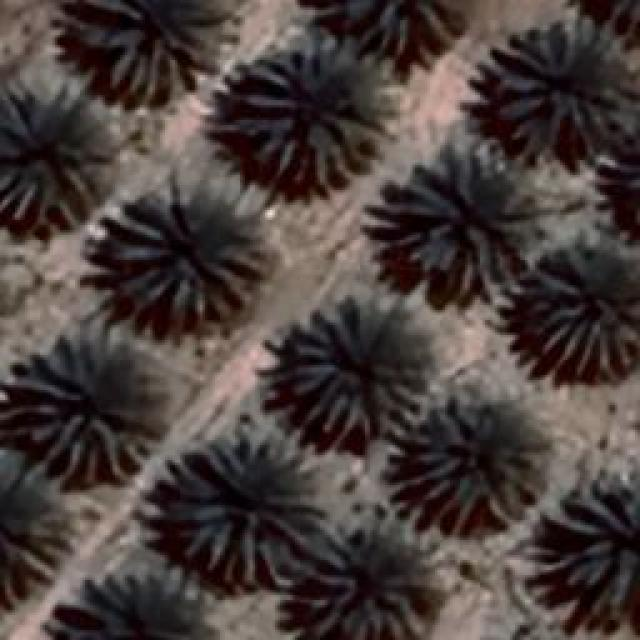PalmTree: (54, 19, 609, 127), (165, 434, 320, 588), (9, 334, 162, 488), (228, 38, 380, 192), (107, 177, 265, 325), (388, 138, 530, 292), (282, 292, 428, 440), (485, 19, 633, 152), (398, 395, 542, 530), (530, 232, 638, 380), (0, 90, 102, 227), (87, 0, 222, 102), (288, 547, 433, 640), (45, 568, 210, 638), (547, 472, 635, 598), (321, 0, 459, 60), (478, 589, 585, 640), (617, 103, 640, 240), (623, 104, 640, 239), (627, 107, 640, 235)
